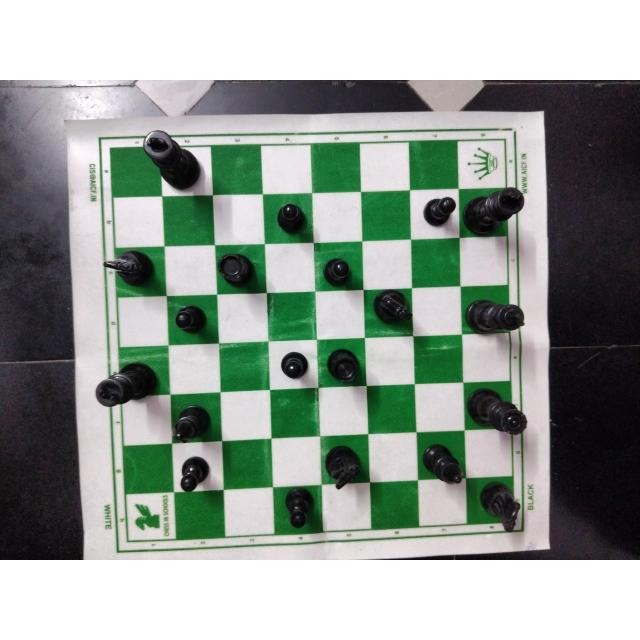black-bishop: (419, 442, 466, 490), (171, 403, 213, 445)
black-king: (143, 129, 205, 191), (92, 359, 161, 409), (461, 186, 527, 238), (467, 297, 529, 339)
black-knight: (478, 480, 526, 536), (320, 442, 364, 492), (101, 251, 157, 289), (372, 288, 416, 330)
black-pawn: (178, 454, 214, 494), (283, 488, 317, 529), (422, 196, 458, 228), (174, 303, 207, 335), (278, 348, 310, 381), (323, 257, 355, 289), (277, 202, 307, 234)
black-queen: (466, 385, 532, 435)
black-rook: (326, 346, 362, 386), (217, 251, 257, 286)
